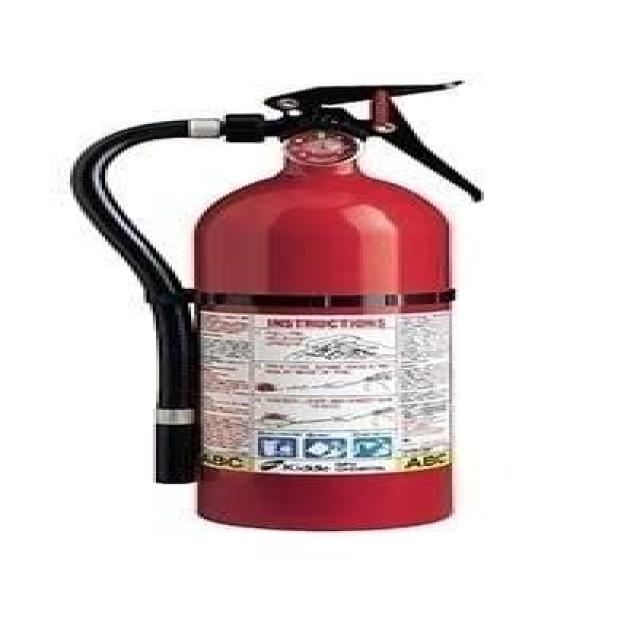fire_extinguisher: (62, 75, 489, 535)
